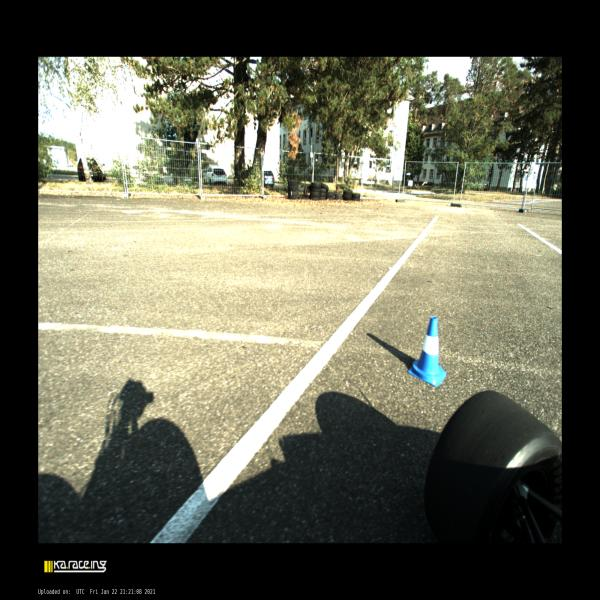blue_cone: (408, 316, 446, 387)
